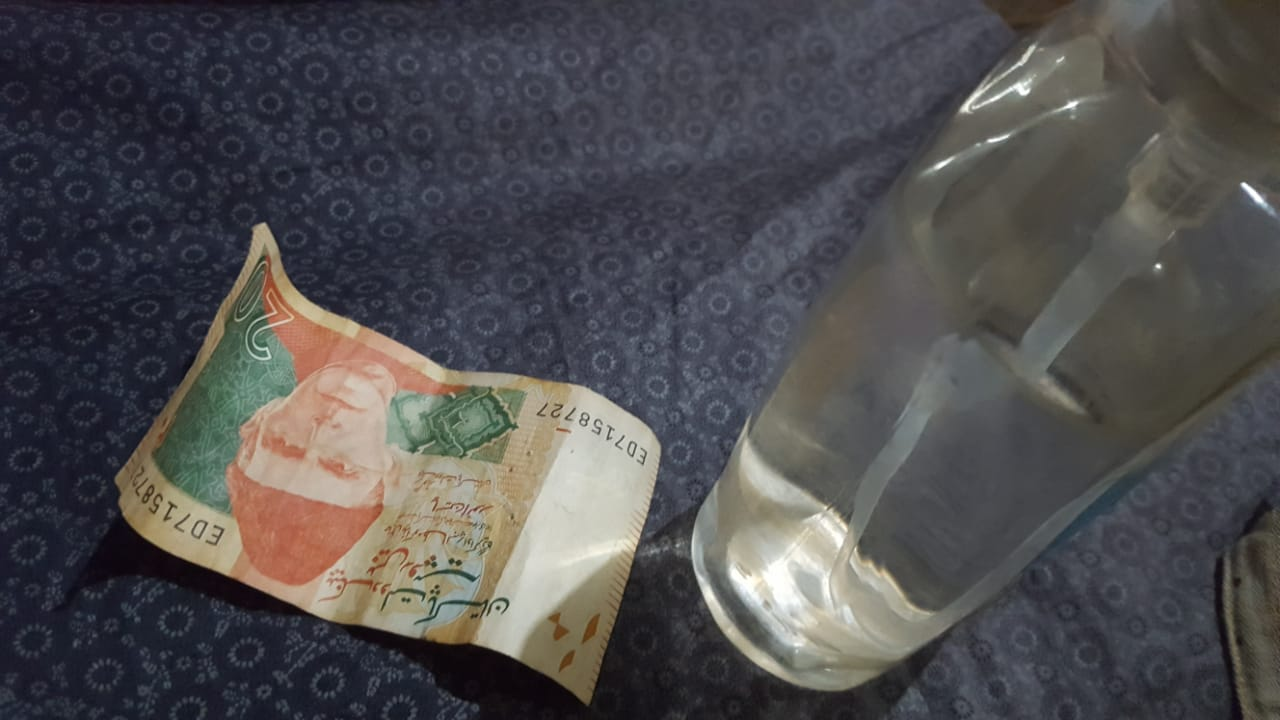20 rupee: (96, 220, 682, 655)
